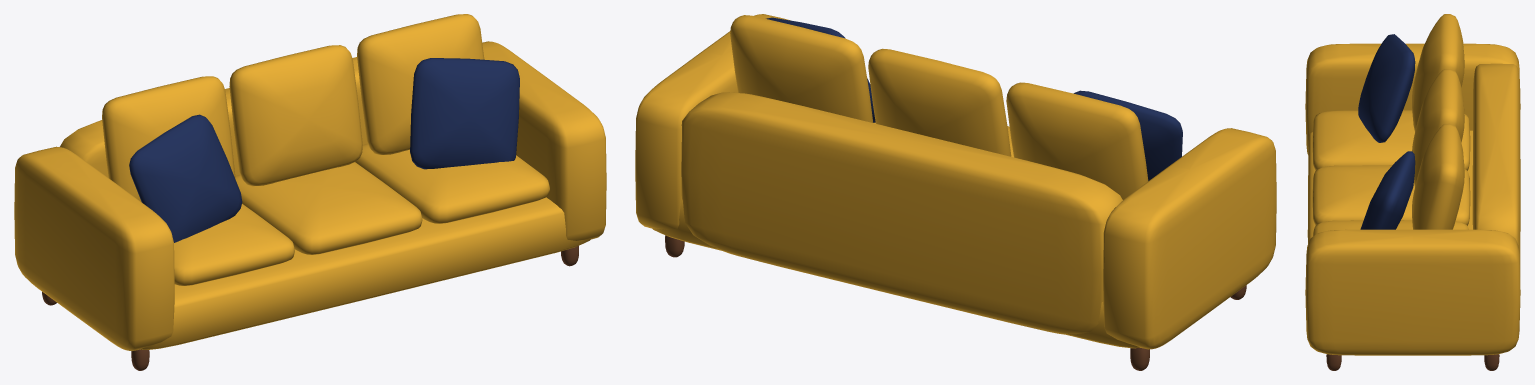
The model's file is sofa_classico_mostarda.glb.
The picture shows the model from 3 angles, left to right: view 1: azimuth 30°, elevation 25°; view 2: azimuth 150°, elevation 25°; view 3: azimuth 270°, elevation 25°; orthographic projection. The views are drawn at different scales.
Visible parts, largest first — view 1: sofa_classico_mostarda; view 2: sofa_classico_mostarda; view 3: sofa_classico_mostarda.
Part boxes in pixels (x1,y1,x2,y2): sofa_classico_mostarda: (14,14,606,370); sofa_classico_mostarda: (635,14,1276,370); sofa_classico_mostarda: (1305,14,1520,370).
Bounding box in the file's own units: 2.05 × 0.8707 × 0.9.
1 material, 1 textured.
